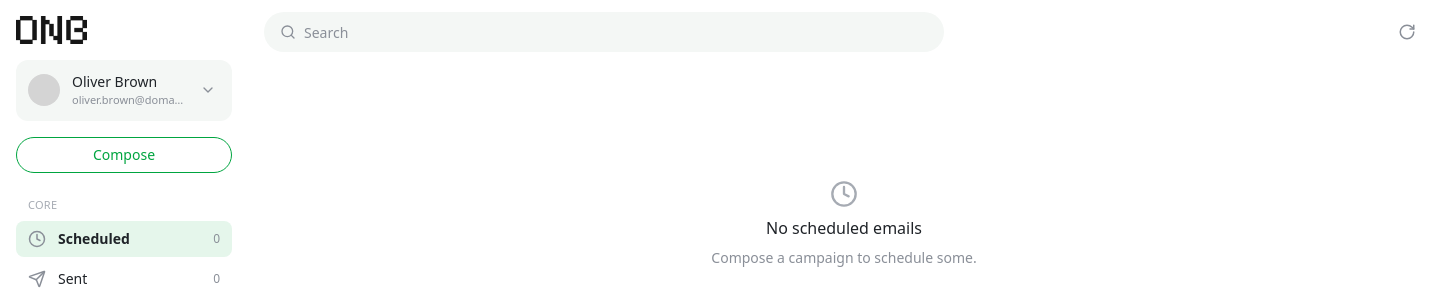
Scenario: Slack in the user menu › status error: offers a retry instead of a broken item
The image size is (1432, 305).
Click the button named "Account menu" at (208,90), box [196,78,220,102]
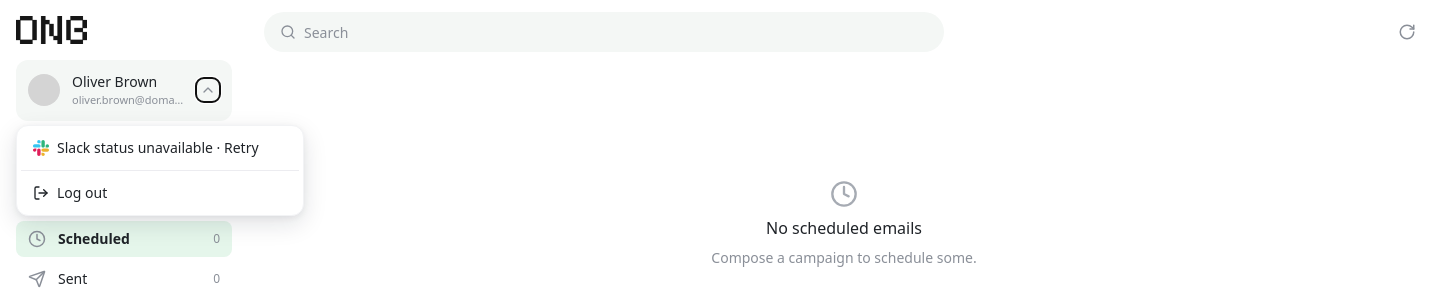
Click the menu item "Slack status unavailable · Retry" at (160,148), box [21,130,299,166]
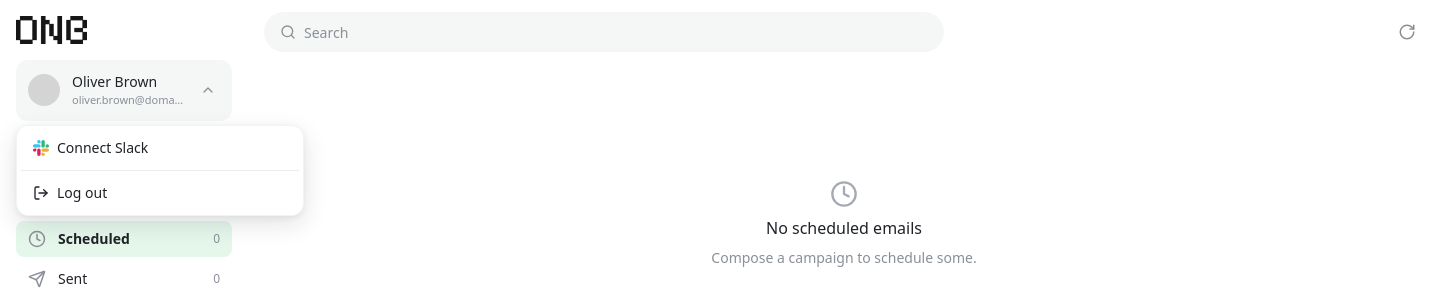
Result: the menu item "Connect Slack" is shown at [33,138,148,156]
